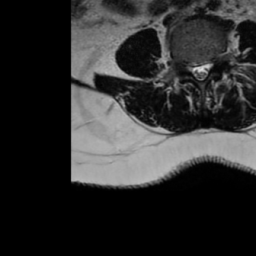CCS_normal: (196, 59, 205, 86)
LFS_severe_stenosis: (212, 51, 220, 70)
LLS_normal: (205, 57, 212, 77)
RFS_severe_stenosis: (179, 55, 188, 73)
RLS_stenosis: (189, 59, 196, 81)
